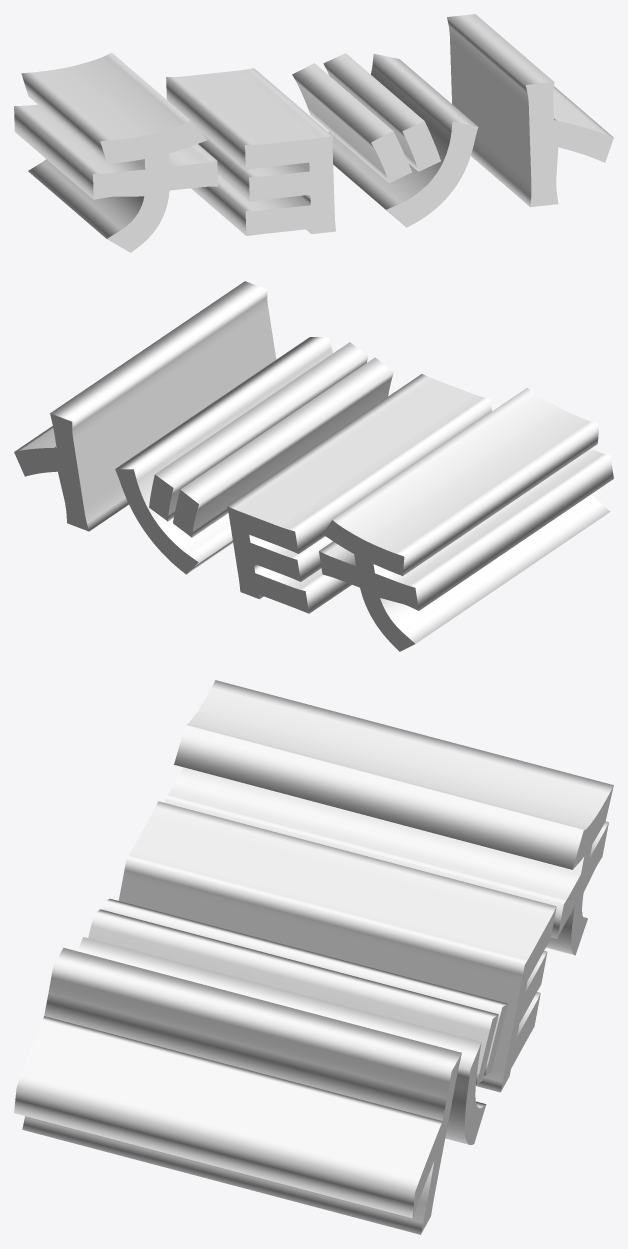
Rendered from Title_Cyotto.obj.
3 views of the same model, one above another, from view 1: azimuth 30°, elevation 25°; view 2: azimuth 150°, elevation 25°; view 3: azimuth 270°, elevation 25° (orthographic). The views are drawn at different scales.
Parts seen in each view (by area): view 1: テキスト; view 2: テキスト; view 3: テキスト.
Part boxes in pixels (x1=…): テキスト: x1=14, y1=14, x2=613, y2=252; テキスト: x1=14, y1=281, x2=613, y2=651; テキスト: x1=14, y1=680, x2=613, y2=1234.
Bounding box in the file's own units: 4.22 × 1.32 × 2.89.
